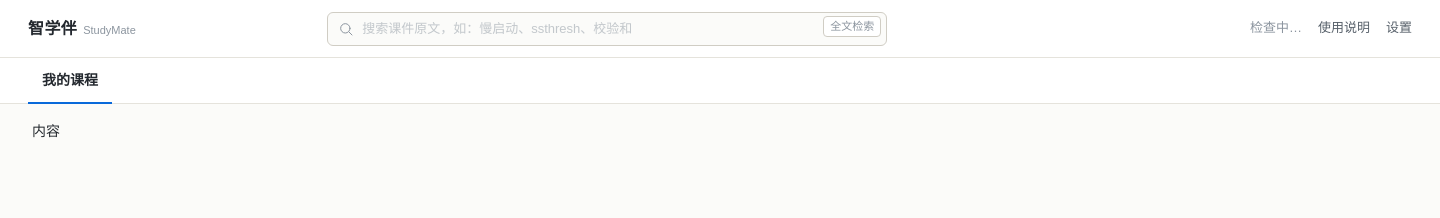
Test: 检索命中：关键词大小写不敏感高亮，命中行可阅读跟随
The width and height of the screenshot is (1440, 218).
In the field labelled "搜索课件原文": (607, 28) [327,12,887,46], type "slow"
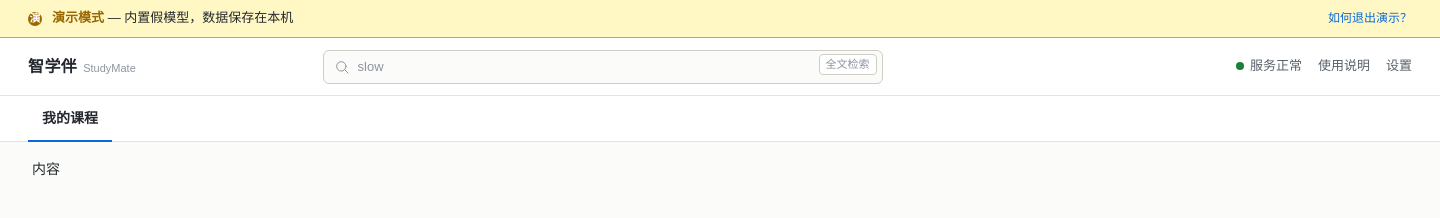
Submit the form named "搜索课件原文", box [322,50,882,84]
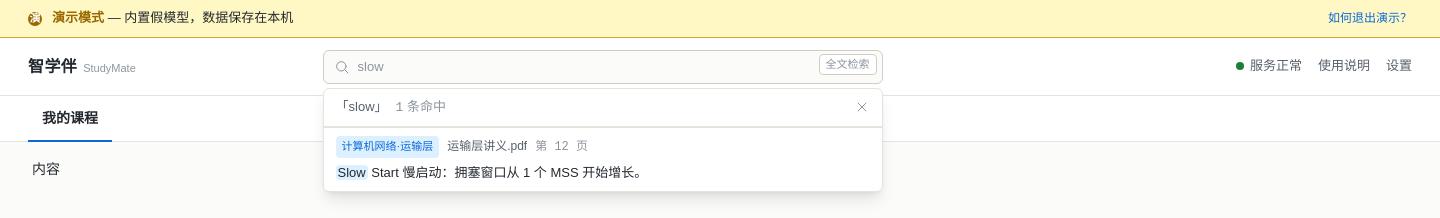
Now the text "Slow" is shown, box [336,165,368,180]
Now the text "Slow" reads "Slow Start 慢启动：拥塞窗口从 1 个 MSS 开始增长。", box [336,165,647,180]
